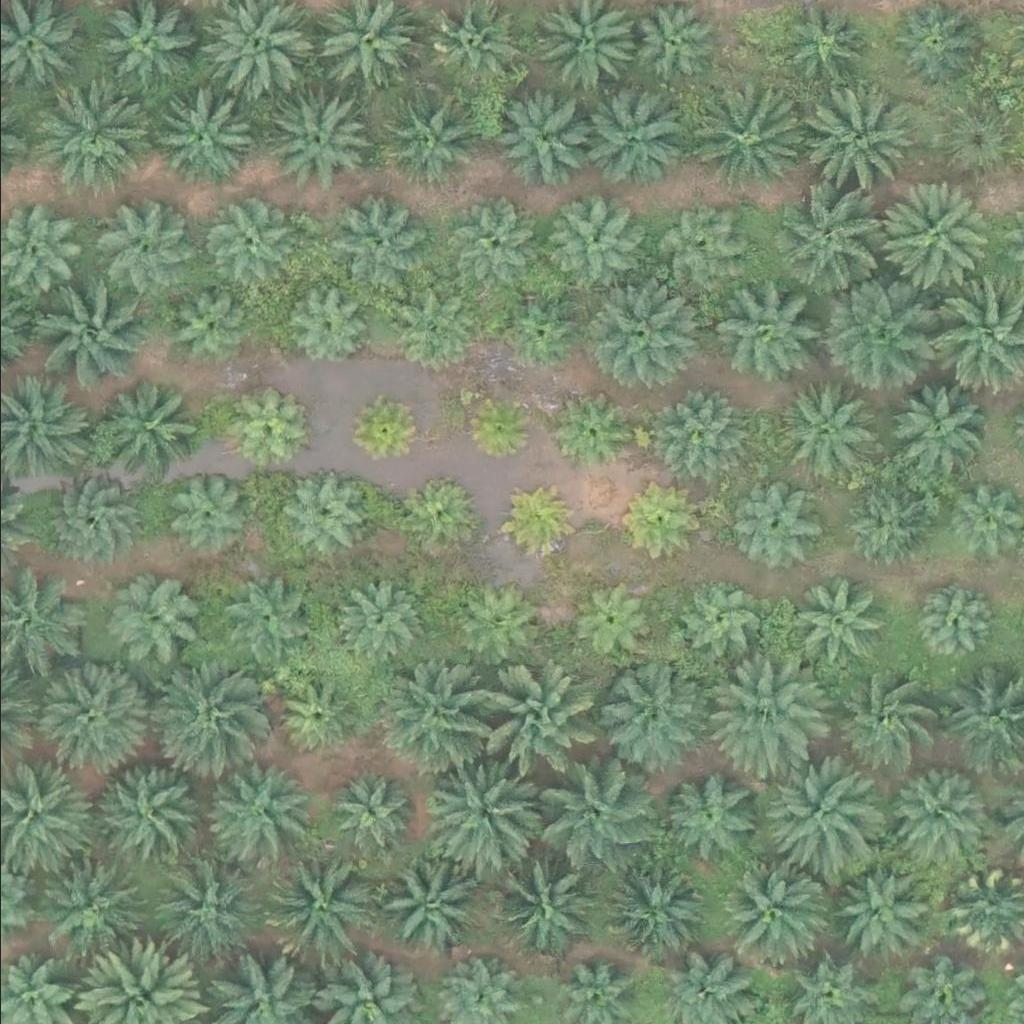Kelapa_Sawit: (480, 846, 594, 959), (795, 80, 909, 193), (262, 847, 375, 960), (150, 851, 263, 964), (95, 758, 208, 871), (34, 655, 147, 768), (137, 78, 250, 191), (28, 79, 141, 192), (535, 763, 648, 876), (377, 662, 490, 775), (819, 275, 932, 388), (709, 276, 822, 389), (586, 277, 699, 390), (773, 186, 886, 299), (877, 182, 990, 295), (682, 76, 795, 189), (757, 762, 871, 874), (472, 668, 586, 780), (194, 751, 307, 863), (143, 653, 256, 765), (32, 270, 145, 382), (712, 859, 825, 971), (430, 758, 543, 870), (599, 655, 712, 767), (714, 655, 827, 767), (827, 659, 940, 771), (41, 855, 142, 955), (95, 376, 196, 476), (90, 200, 191, 300), (270, 89, 371, 189), (377, 858, 478, 958), (826, 864, 927, 964), (665, 763, 766, 863), (781, 574, 882, 674), (777, 378, 878, 478), (578, 85, 679, 185), (495, 90, 596, 190), (378, 89, 479, 189), (326, 196, 427, 296), (106, 570, 206, 670), (38, 468, 138, 568), (600, 859, 700, 959), (884, 758, 984, 858), (883, 377, 983, 477), (907, 576, 996, 664), (269, 670, 357, 758), (276, 465, 364, 553), (204, 191, 292, 279), (496, 287, 584, 375), (378, 287, 466, 375), (324, 770, 412, 858), (928, 90, 1016, 178), (568, 573, 656, 661), (445, 578, 533, 666), (540, 197, 628, 285), (448, 198, 536, 286), (218, 570, 307, 657), (160, 467, 248, 554), (280, 283, 368, 370), (156, 280, 244, 367), (840, 481, 928, 568), (670, 576, 758, 663), (336, 577, 424, 664), (660, 391, 748, 478), (729, 478, 817, 565), (651, 203, 739, 290), (402, 472, 478, 547), (222, 389, 298, 464), (349, 394, 425, 469), (498, 487, 574, 562), (557, 397, 632, 472), (460, 389, 535, 464), (621, 487, 696, 562)
